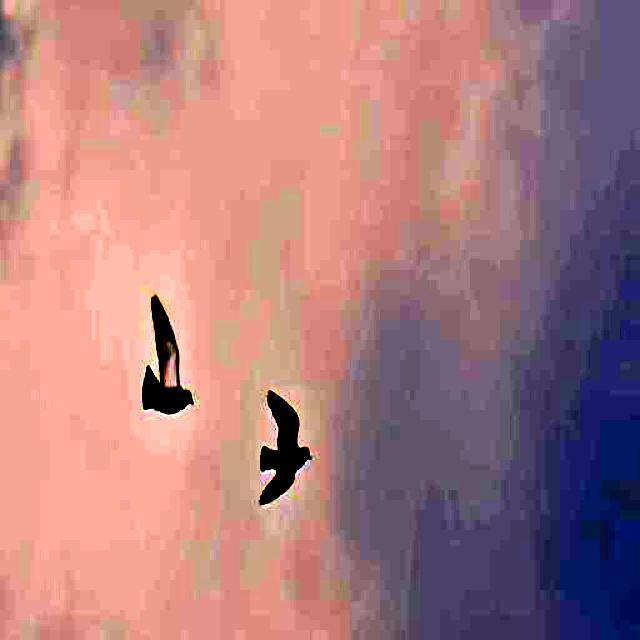airplane: (131, 276, 199, 441), (256, 376, 312, 518)
